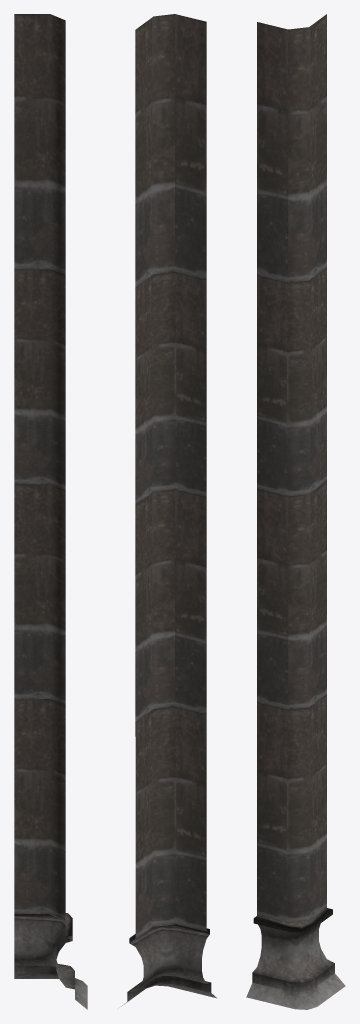
Rendered from Psychiatric_Ward_Basement_Lower_Wall_Corner.glb.
3 views of the same model, side by side, from view 1: azimuth 90°, elevation 25°; view 2: azimuth 150°, elevation 25°; view 3: azimuth 330°, elevation 25° (orthographic).
Parts seen in each view (by area): view 1: Psychiatric_Ward_Basement_Lower_Wall_Corner; view 2: Psychiatric_Ward_Basement_Lower_Wall_Corner; view 3: Psychiatric_Ward_Basement_Lower_Wall_Corner.
Boxes of the visible parts, left/top/right/bottom form: Psychiatric_Ward_Basement_Lower_Wall_Corner: left=14, top=14, right=87, bottom=1009; Psychiatric_Ward_Basement_Lower_Wall_Corner: left=121, top=14, right=216, bottom=1006; Psychiatric_Ward_Basement_Lower_Wall_Corner: left=246, top=14, right=345, bottom=1009.
Size of the model in its own units: 0.2048 by 3 by 0.2048.
Materials: 1 (1 with a texture image).
